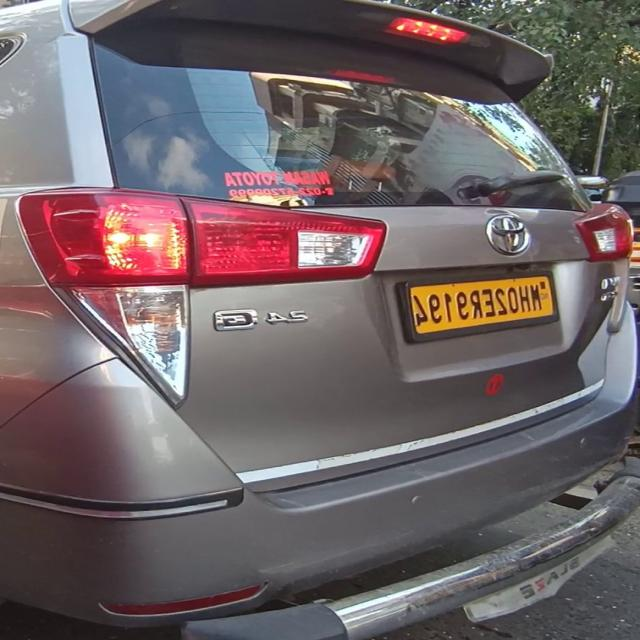license_plate: (393, 262, 565, 351)
